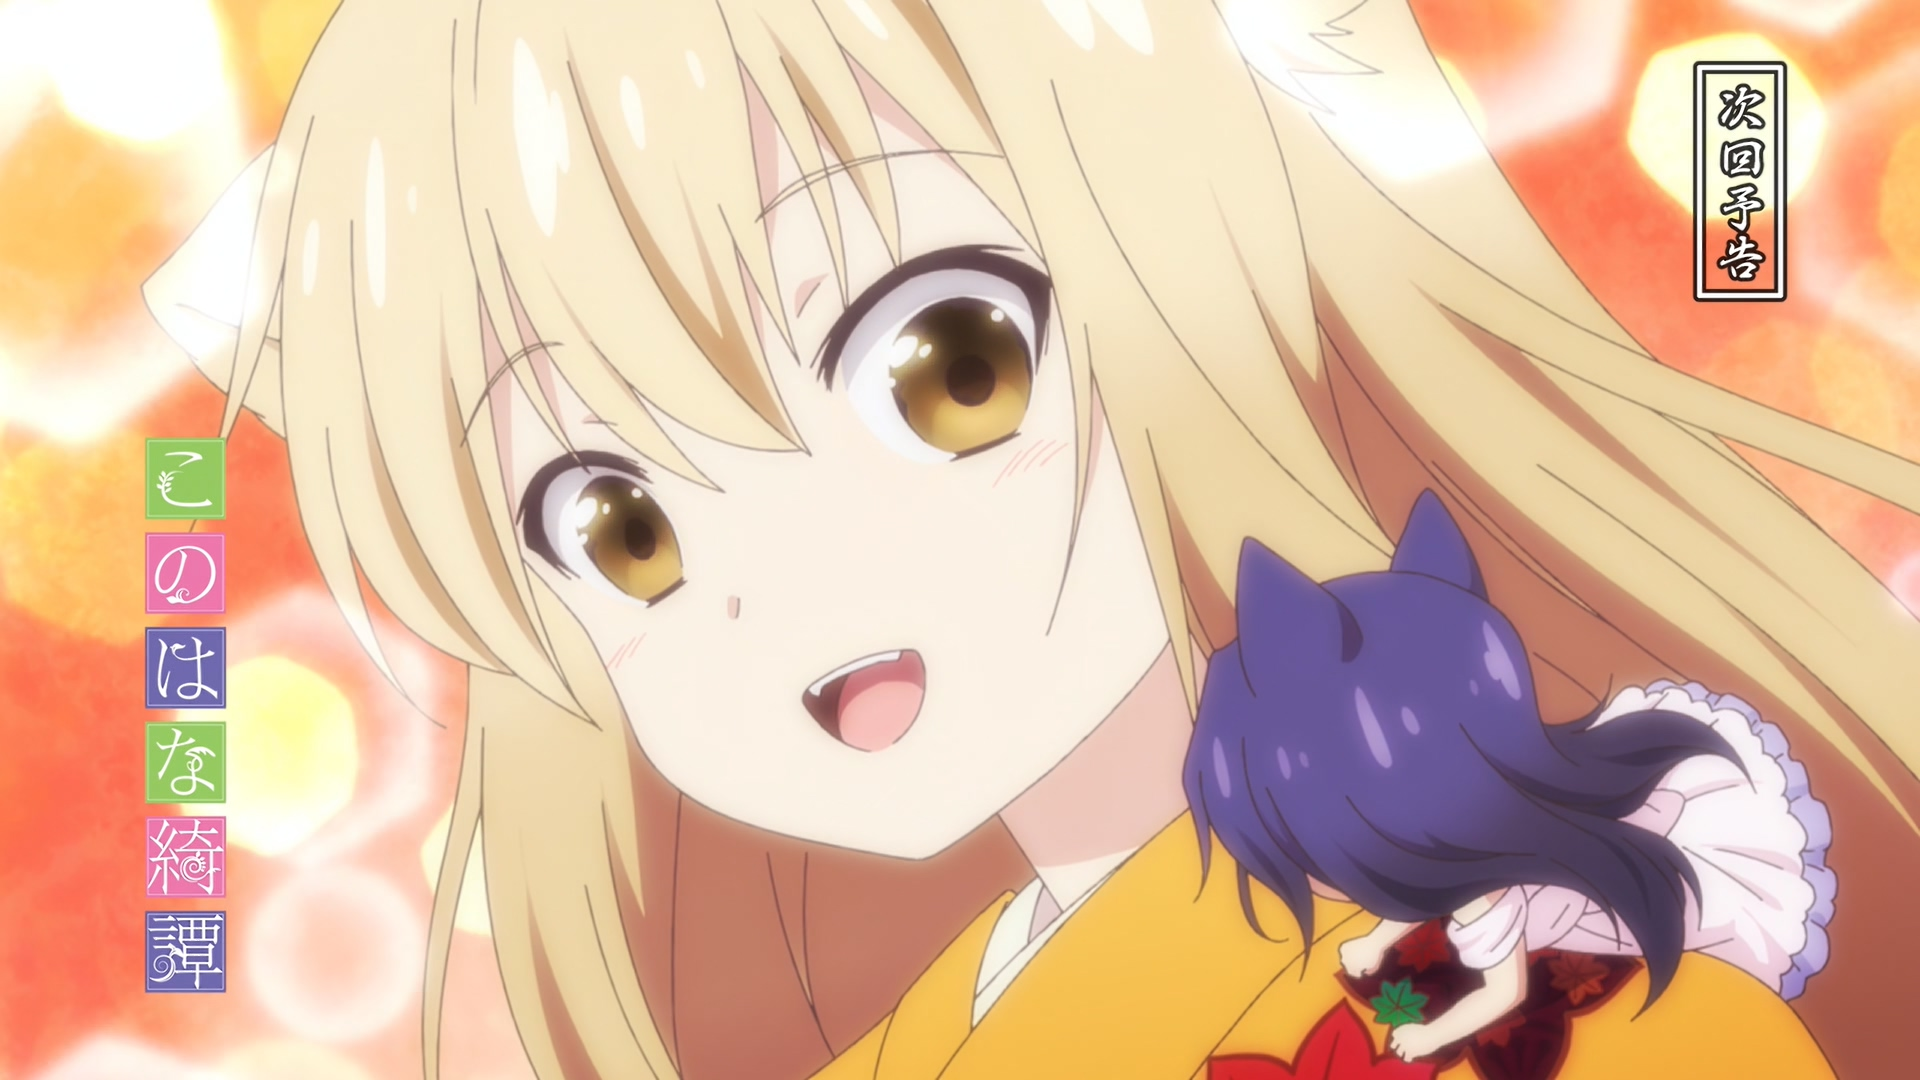柚: (141, 1, 1920, 1080)
皋: (1183, 491, 1836, 1063)
